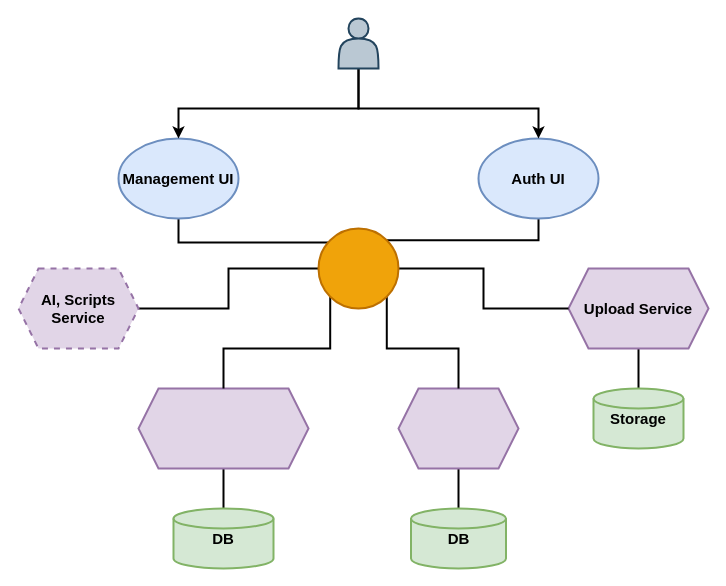
The diagram is 726 pixels wide and 586 high, and some of its shapes have lost their labels. Each missing label, with the centre of its shape:
Auth Service: the point at 458,428
Management Service: the point at 223,428
PROXY: the point at 358,268
